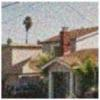chimneys: (60, 26, 72, 54)
